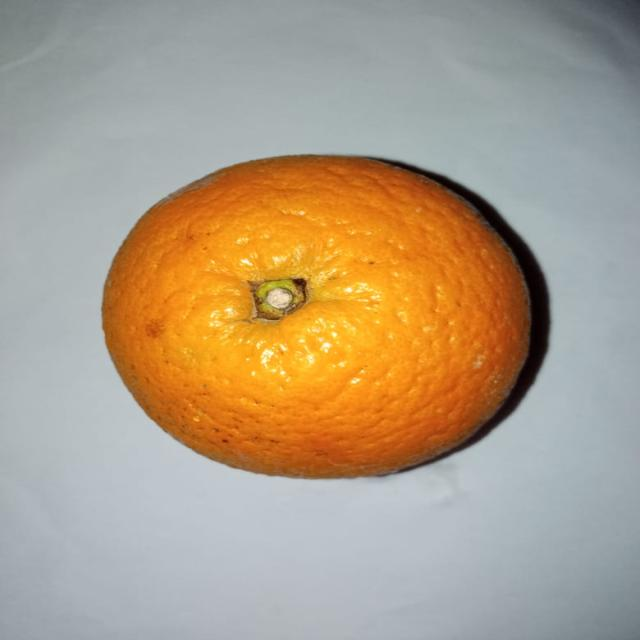fresh_orange: (98, 156, 531, 478)
